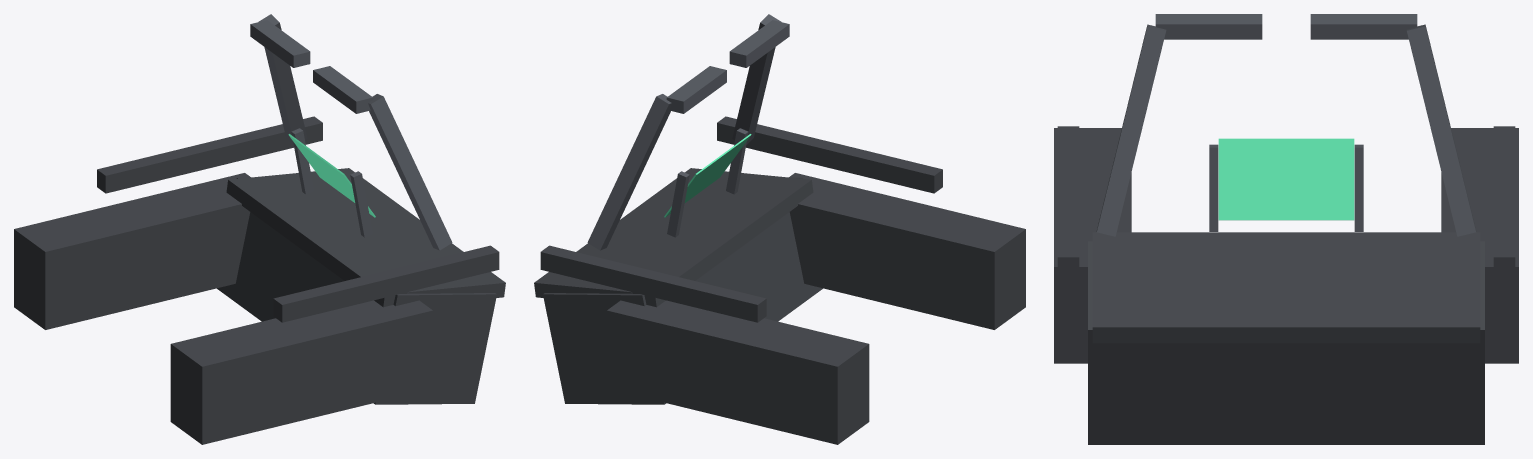
Rendered from SM_F14_Cockpit.fbx.
3 views of the same model, side by side, from view 1: azimuth 30°, elevation 25°; view 2: azimuth 150°, elevation 25°; view 3: azimuth 270°, elevation 25° (orthographic). The views are drawn at different scales.
Parts seen in each view (by area): view 1: SM_F14_Cockpit; view 2: SM_F14_Cockpit; view 3: SM_F14_Cockpit.
Part boxes in pixels (bbox=[...]): SM_F14_Cockpit: bbox=[14, 14, 505, 444]; SM_F14_Cockpit: bbox=[534, 14, 1025, 444]; SM_F14_Cockpit: bbox=[1054, 14, 1518, 444].
Bounding box in the file's own units: 0.941 × 0.96 × 0.8617.
